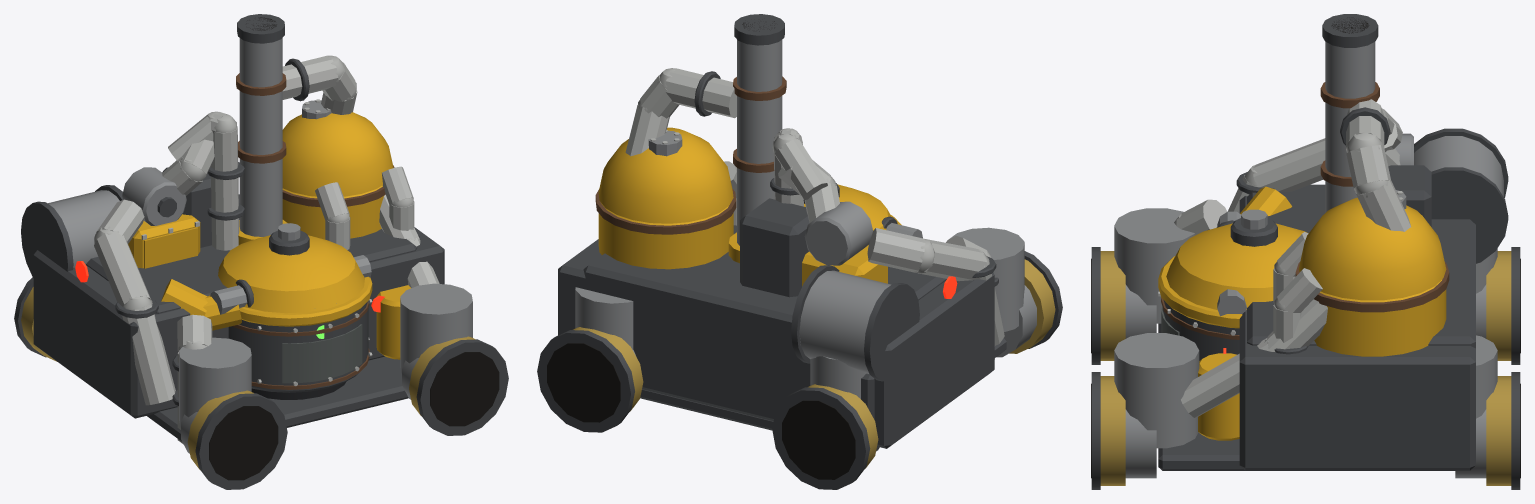
The model's file is chemical-plant-south.glb.
3 views of the same model, side by side, from view 1: azimuth 30°, elevation 25°; view 2: azimuth 150°, elevation 25°; view 3: azimuth 270°, elevation 25° (orthographic). The views are drawn at different scales.
Parts seen in each view (by area): view 1: body; view 2: body; view 3: body.
Boxes of the visible parts, left/top/right/bottom form: body: left=14, top=14, right=508, bottom=489; body: left=537, top=14, right=1062, bottom=489; body: left=1091, top=14, right=1520, bottom=489.
Bounding box in the file's own units: 2.89 × 3.04 × 2.91.
